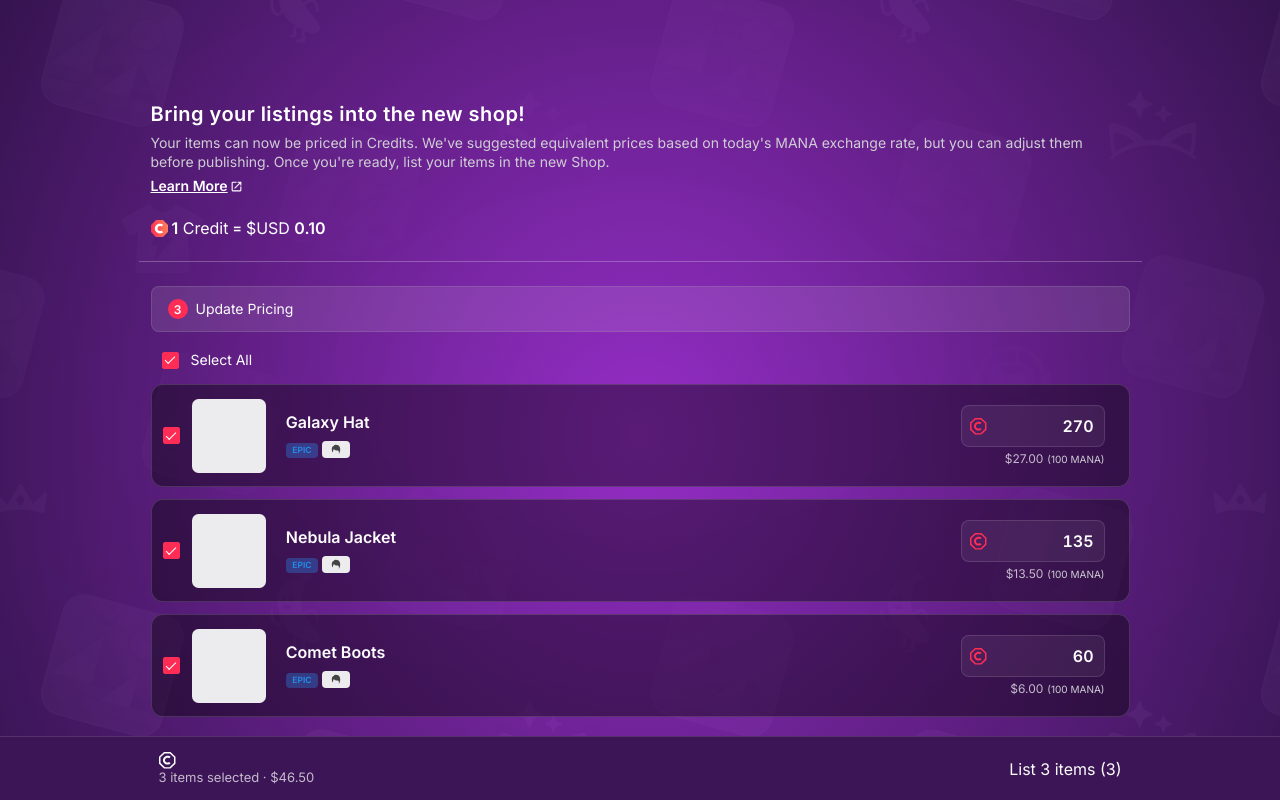
Select all › should report MIXED — not unchecked — while only some rows are selected
Click the checkbox named "Include Nebula Jacket".
click(171, 551)  # box [163,542,180,559]
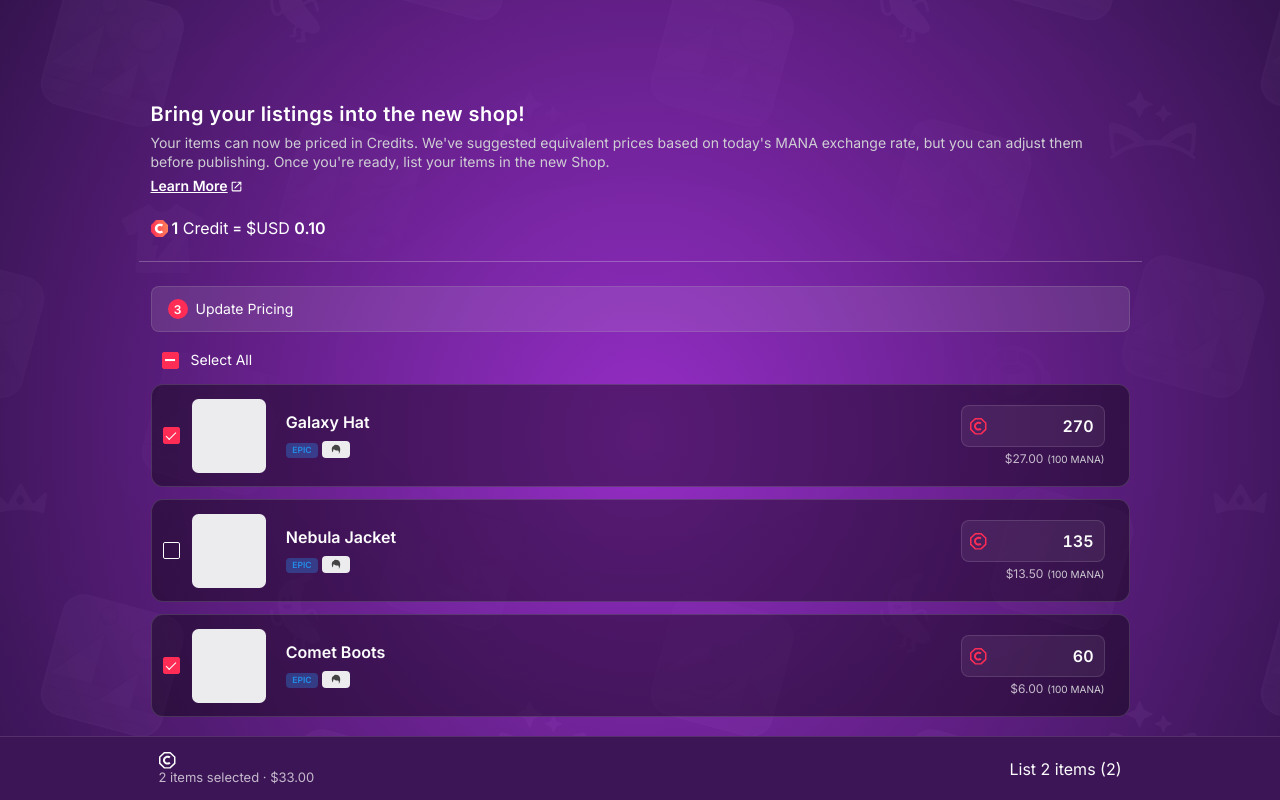
Result: the checkbox with test id "import-select-all" is not checked at [162,352,179,369]
